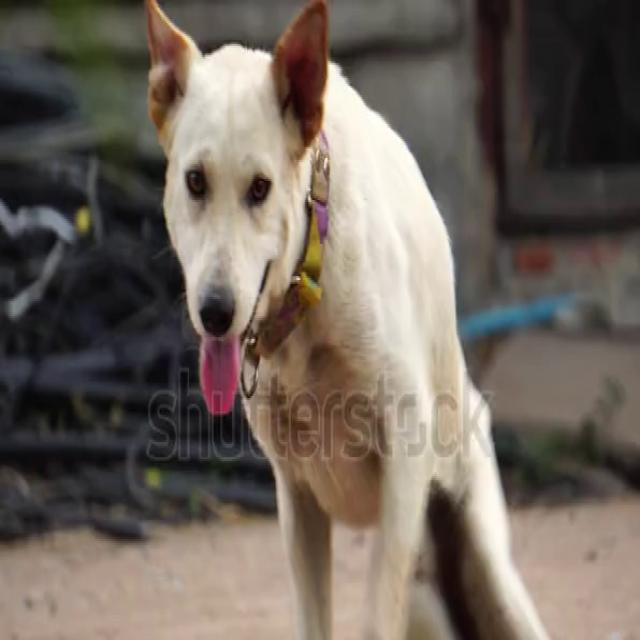injured-animals: (136, 0, 626, 638)
